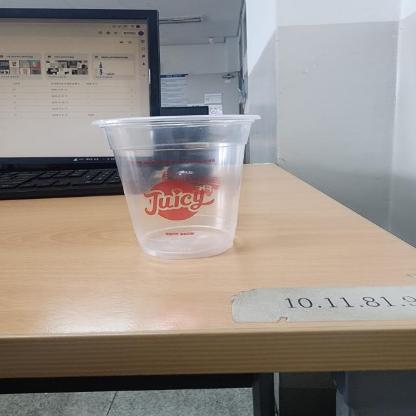Plastic Cup: (90, 114, 260, 258)
